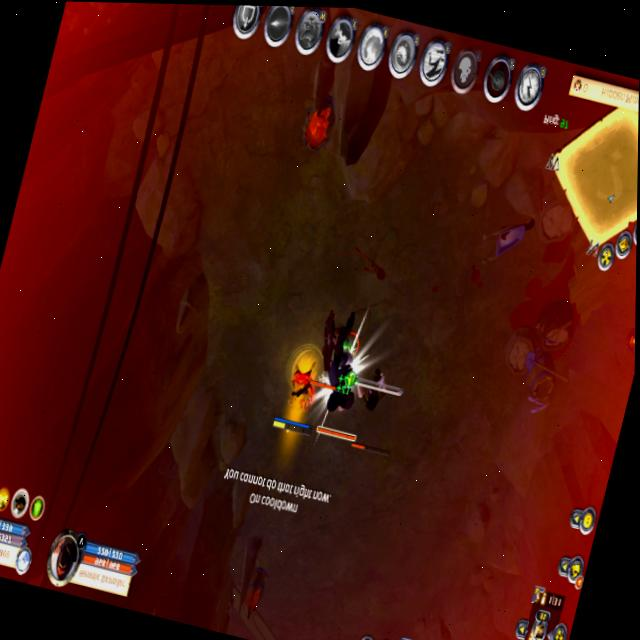ore: (306, 326, 380, 448), (335, 352, 414, 463), (309, 308, 359, 391)
red: (269, 348, 329, 440)
